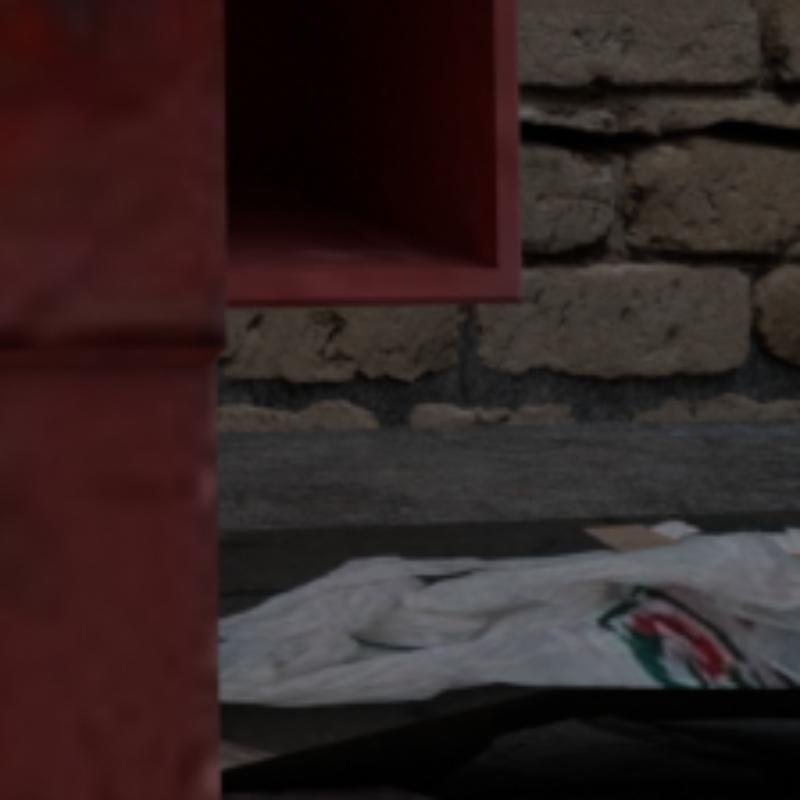pothole: (521, 118, 796, 157)
